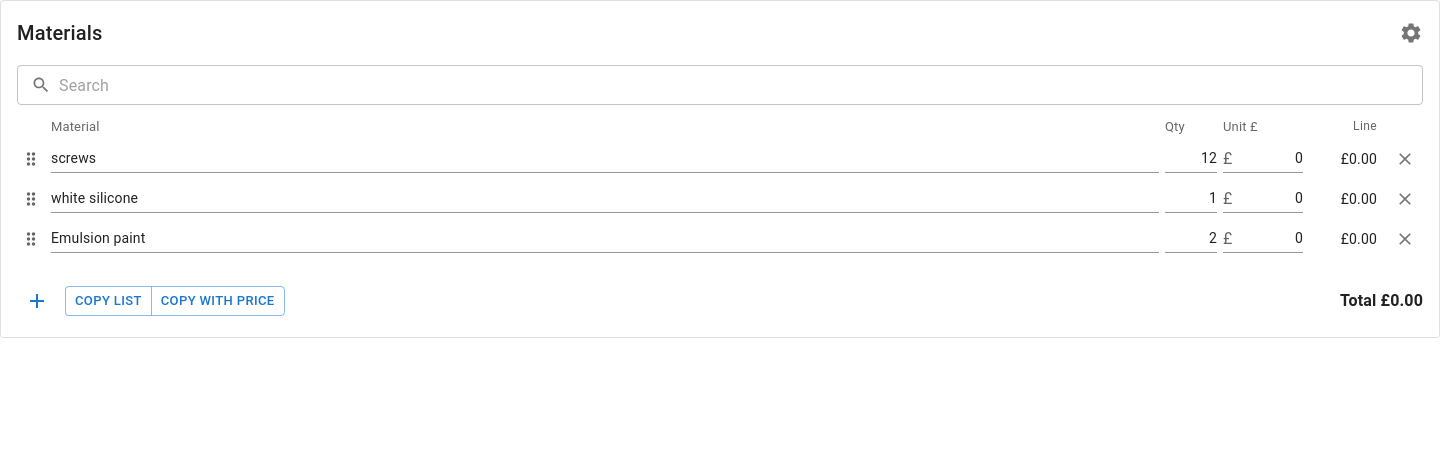
it: searching materials › shows every row again after hiding search with a query still typed
Type "silicone" into the field named "Search materials" at (741, 85), box [59,65,1423,105]
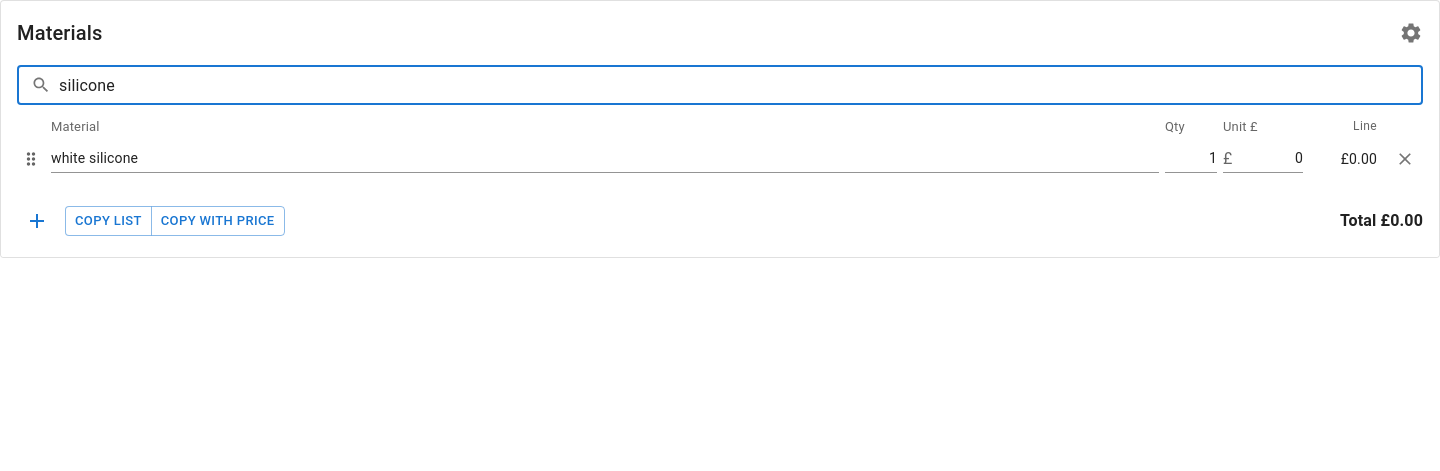
Click the button named "Columns" at (1411, 33), box [1391,13,1431,53]
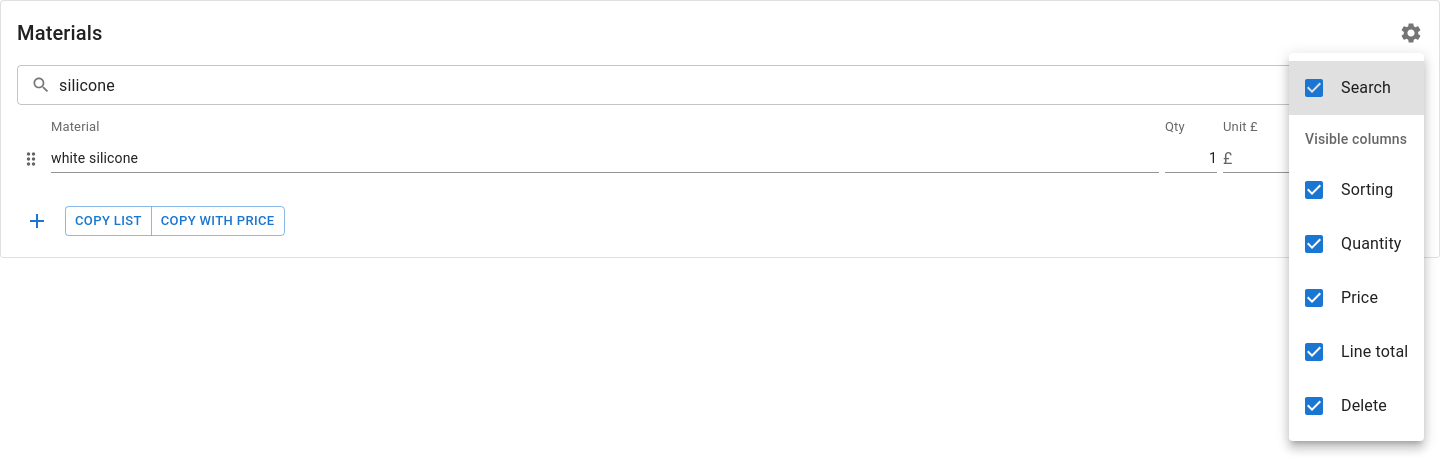
Click the menu item "Search" at (1357, 88), box [1289,61,1424,115]
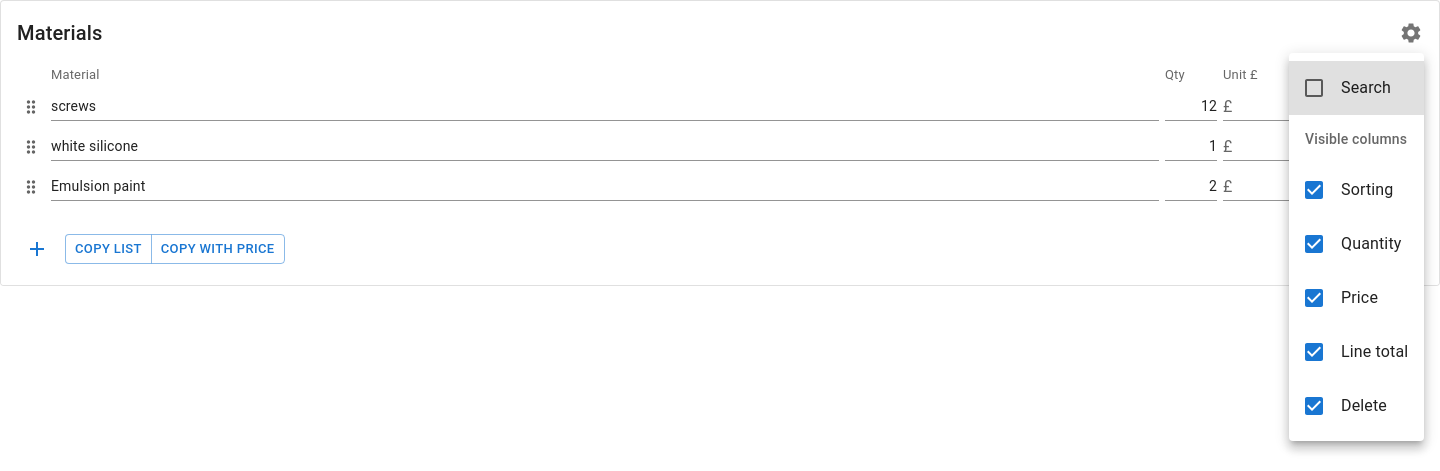
Expected: the dropdown showing "white silicone" is shown, [51,132,1129,160]
Result: the dropdown showing "screws" is shown at [51,92,1129,120]
Result: the dropdown showing "Emulsion paint" is shown at [51,172,1129,200]
